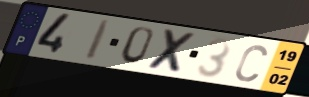0: (117, 25, 156, 66)
3: (195, 36, 234, 79)
4: (34, 11, 69, 58)
C: (233, 43, 269, 84)
I: (83, 18, 115, 62)
X: (144, 27, 199, 76)
